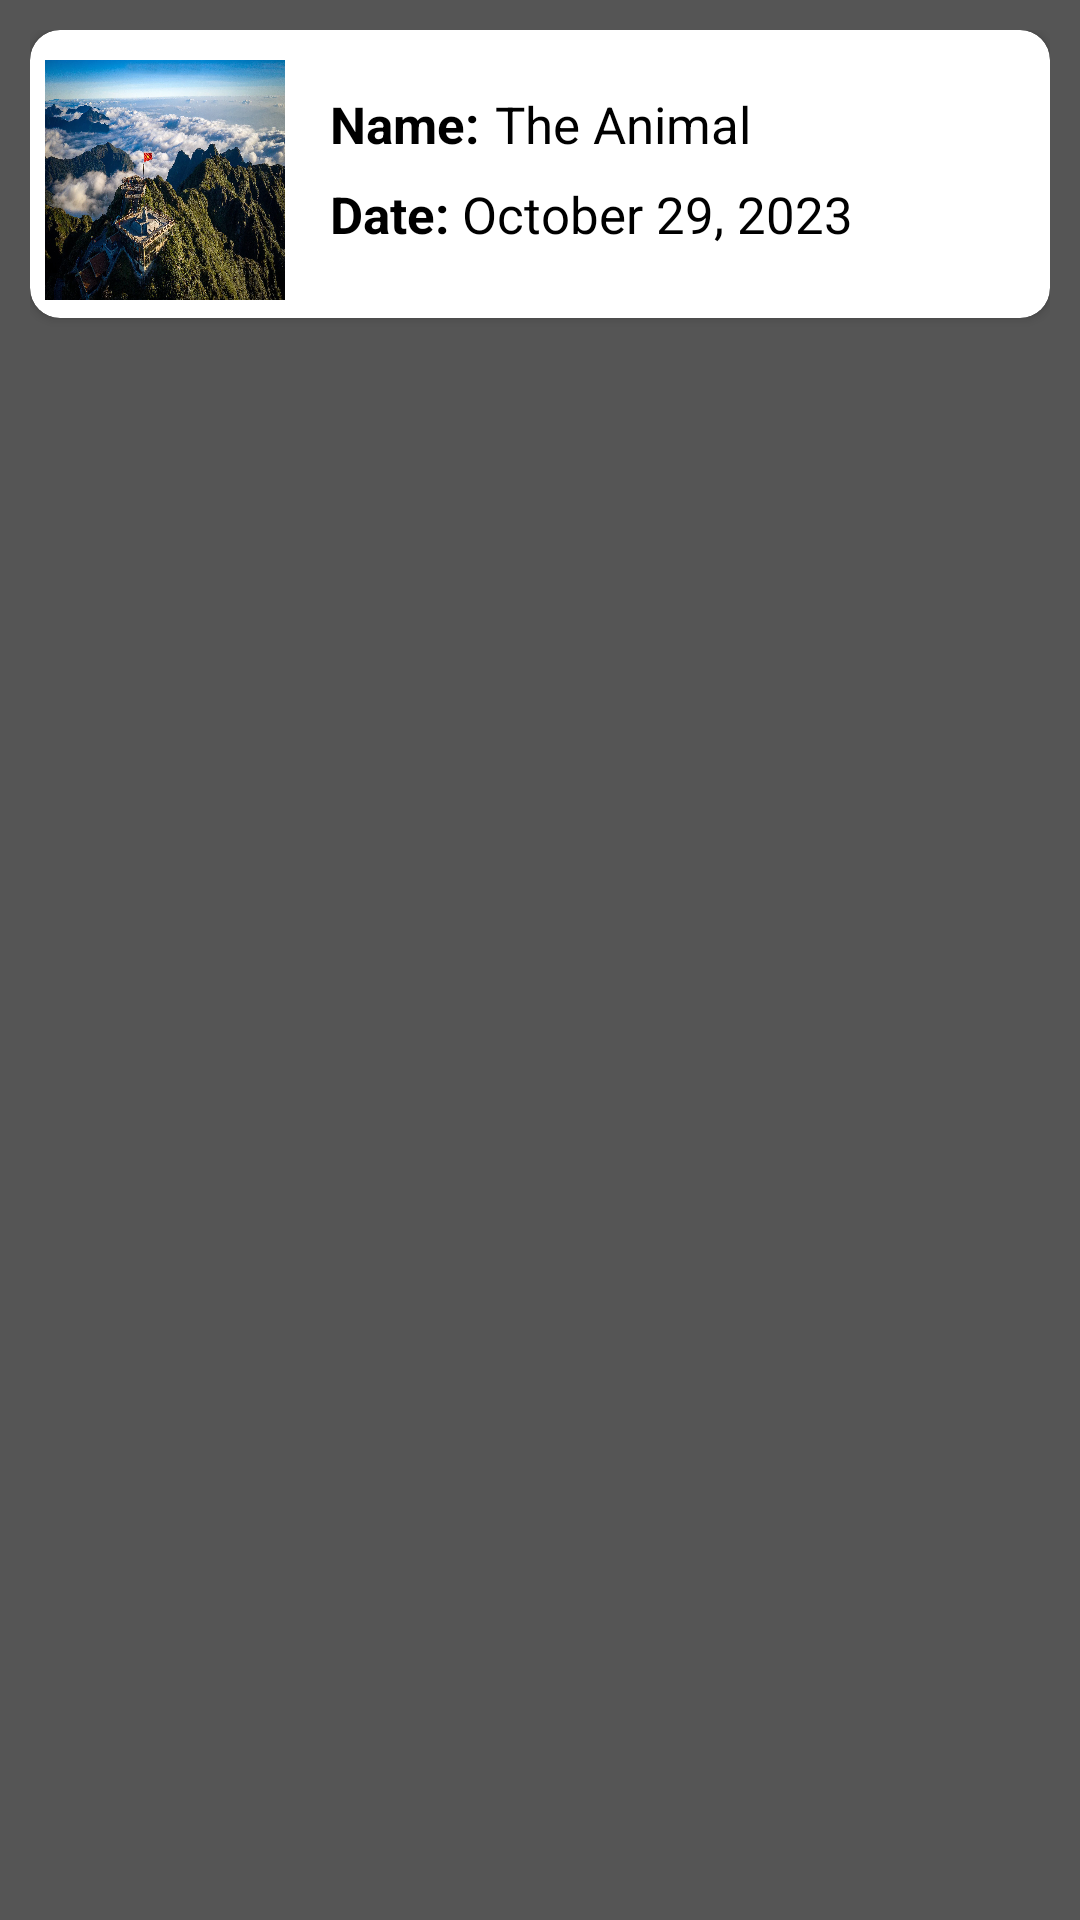

Icon bounding boxes for this 1080 x 1920 phone screenshot, format {"x1": x1, "y1": y1, "x2": x2, "y2": y2}:
fansipan: {"x1": 45, "y1": 60, "x2": 285, "y2": 300}
